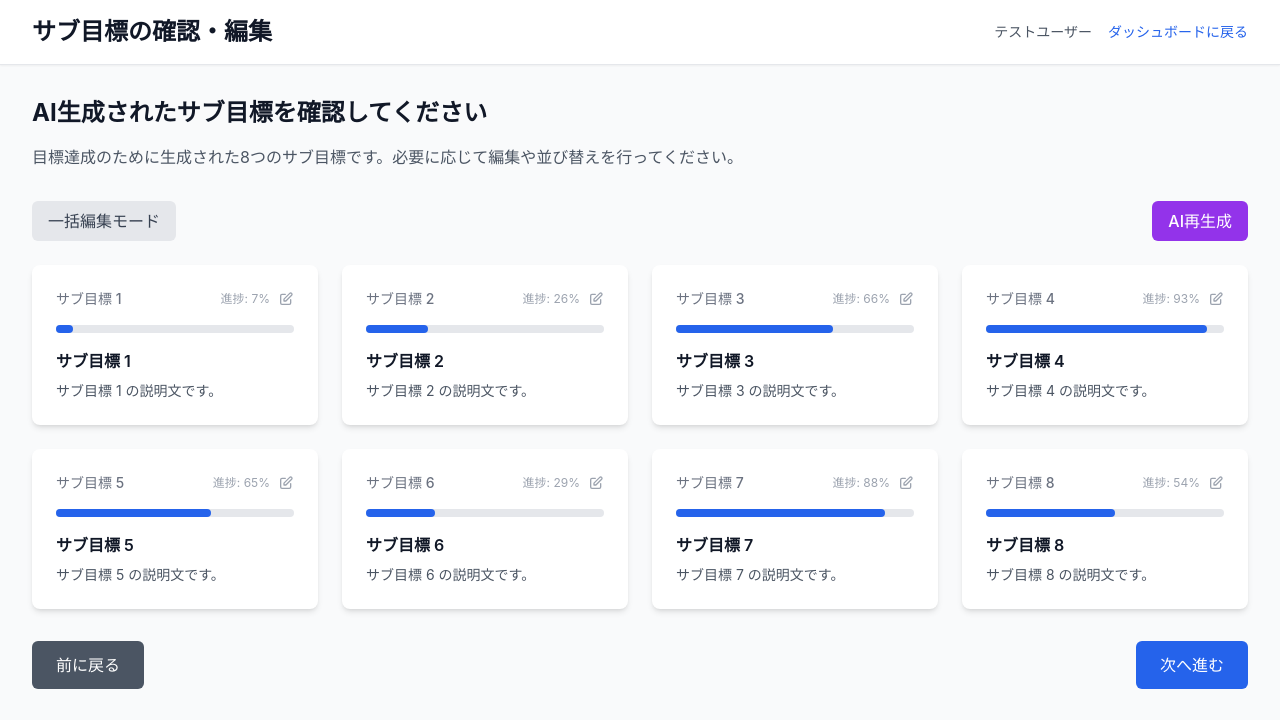
Test: SubGoalEditPage › サブ目標編集 › 編集をキャンセルできる
This screenshot has width=1280, height=720.
Expected: the text "サブ目標 1" is shown, [56,289,122,309]
Click the 1st button named "サブ目標を編集": (286, 299) [278,291,294,307]
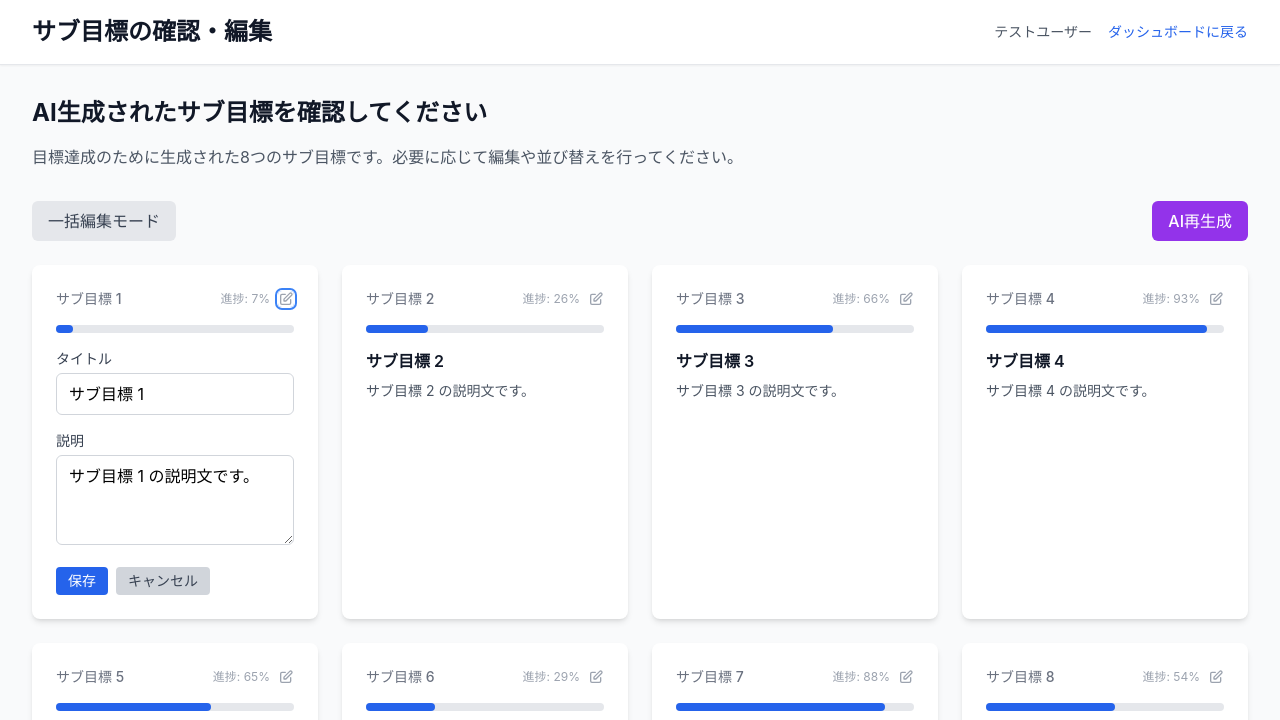
Now the field labelled "タイトル" is shown
Replace the text in the field labelled "タイトル" with "変更されたタイトル": (175, 394) [56,373,294,415]
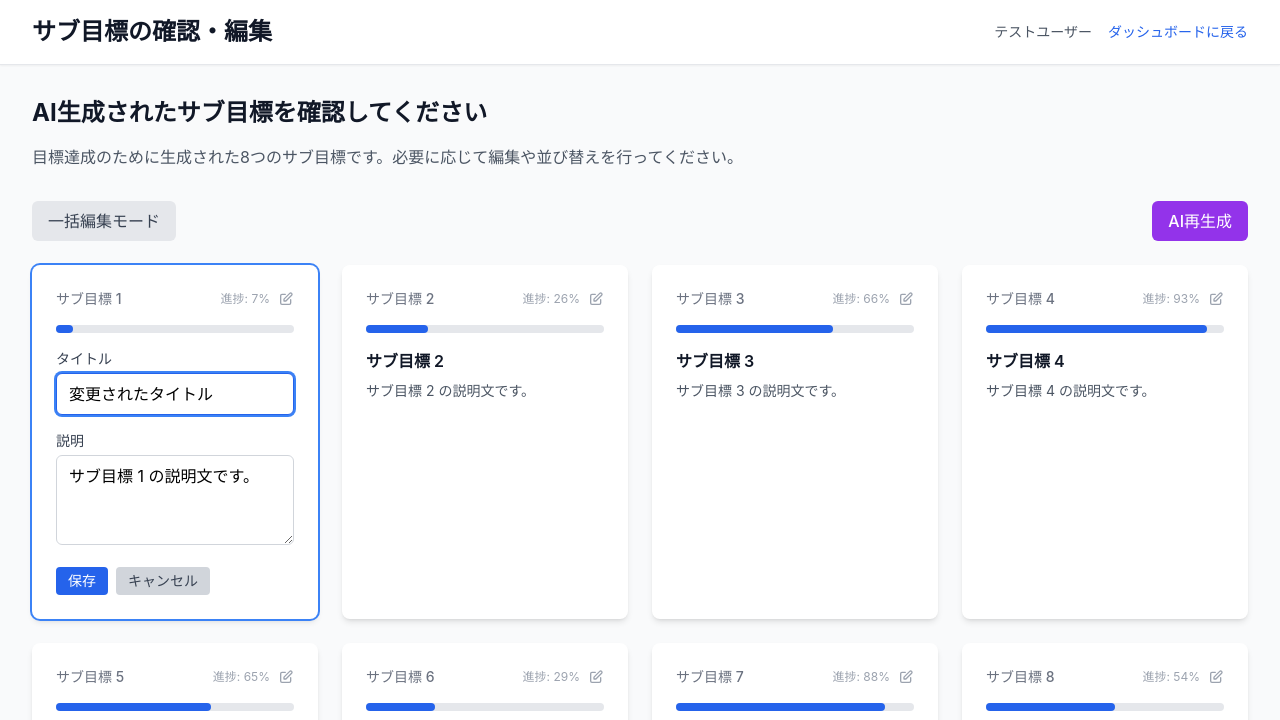
Click the button "キャンセル": (163, 581) [116,567,210,595]
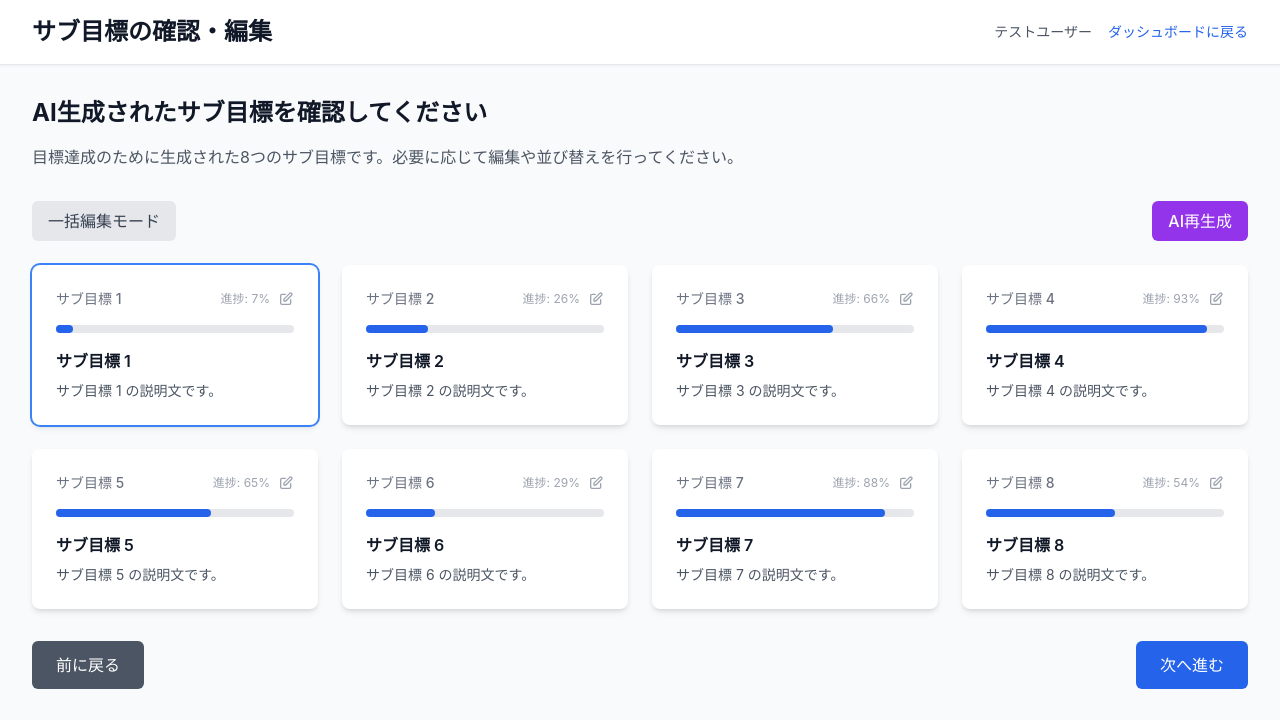
Expected: the text "サブ目標 1" is shown, [56,289,122,309]
Now the label labelled "タイトル" is gone
